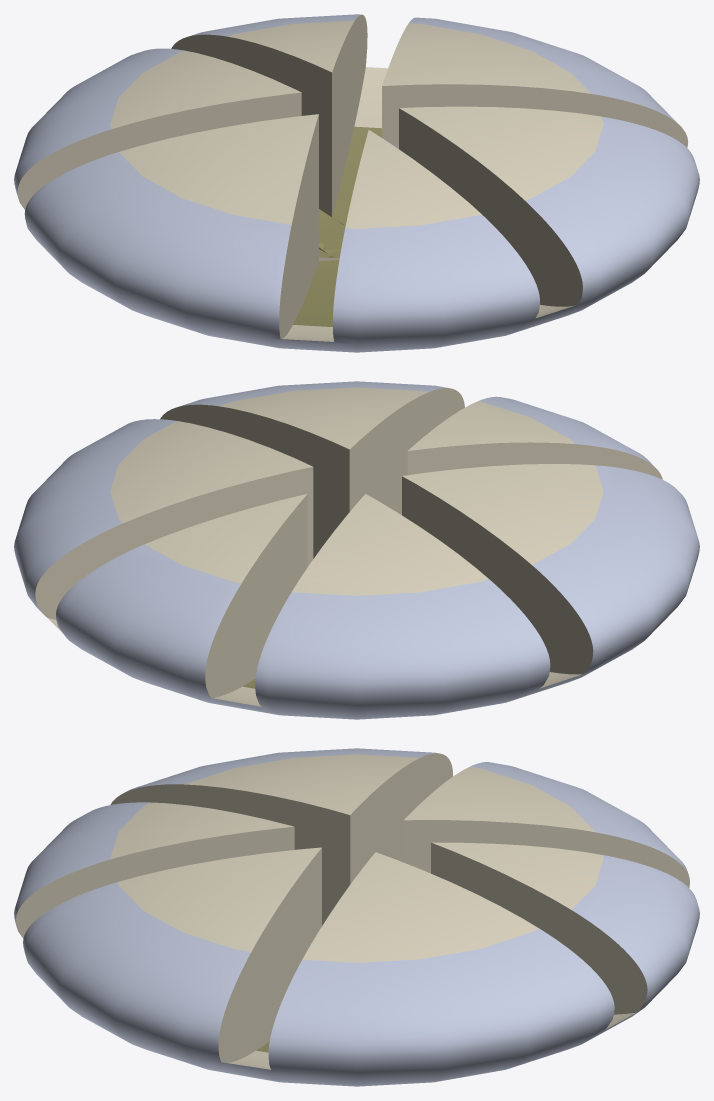
The model's file is FlyGear_Woofer.fbx.
The picture shows the model from 3 angles, top to bottom: view 1: azimuth 30°, elevation 25°; view 2: azimuth 150°, elevation 25°; view 3: azimuth 270°, elevation 25°; orthographic projection.
Visible parts, largest first — view 1: Model; view 2: Model; view 3: Model.
Boxes of the visible parts, left/top/right/bottom form: Model: left=14, top=14, right=699, bottom=352; Model: left=14, top=381, right=699, bottom=719; Model: left=14, top=748, right=699, bottom=1086.
Bounding box in the file's own units: 148 × 44.37 × 148.
